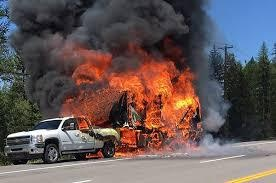fire: (55, 42, 206, 152)
